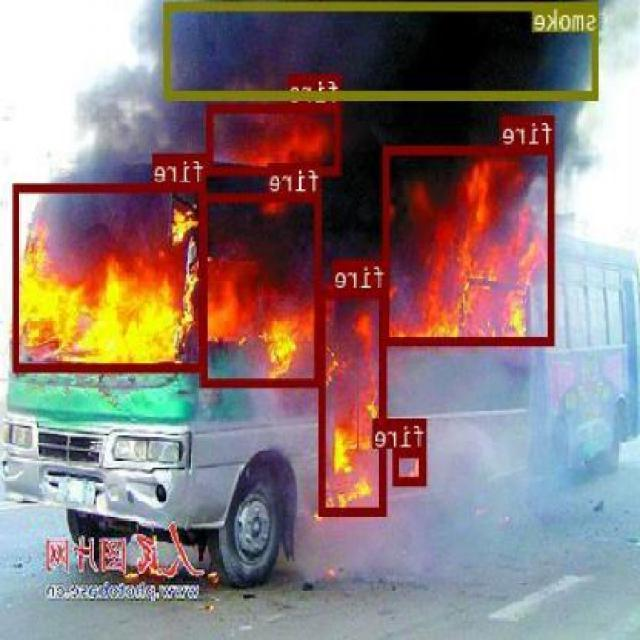Fire: (14, 183, 208, 371), (384, 144, 556, 343), (202, 192, 322, 386), (321, 288, 388, 514), (208, 103, 342, 174), (395, 448, 428, 484)
Smoke: (166, 2, 600, 98)
